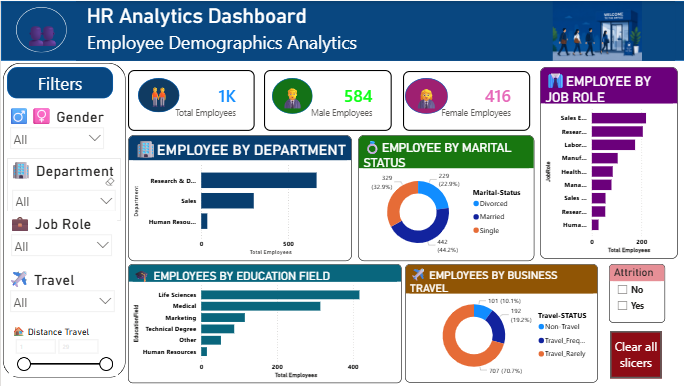

Layout of this report page (visuals, bound fields, positions):
{"tool":"powerbi","page":{"name":"Page 1","canvas":[1280,720],"ordinal":0},"visuals":[{"type":"shape","box":[0,0,1280,111.6],"z":0},{"type":"cardVisual","fields":{"Data":["page1.Total Employees"]},"box":[238.5,128.8,237.1,114.1],"z":1000},{"type":"textbox","title":"HR Analytics Dashboard","box":[139.5,0,1120.8,111.6],"z":2000},{"type":"donutChart","title":"💍EMPLOYEE BY MARITAL STATUS","fields":{"Series":["page1.MaritalStatus"],"Y":["page1.Total Employees"]},"box":[667.9,251.1,329.8,236.3],"z":3000},{"type":"clusteredBarChart","title":"🏢EMPLOYEE BY DEPARTMENT","fields":{"Y":["page1.Total Employees"],"Category":["page1.Department"]},"box":[238.5,250.2,418.5,235.6],"z":4000},{"type":"barChart","title":"👔EMPLOYEE BY JOB ROLE","fields":{"Category":["page1.JobRole"],"Y":["page1.Total Employees"]},"box":[1008.3,124.4,257.6,358.5],"z":5000},{"type":"clusteredBarChart","title":"🎓 EMPLOYEES BY EDUCATION FIELD","fields":{"Category":["page1.EducationField"],"Y":["page1.Total Employees"]},"box":[237.9,492.3,512,223.2],"z":6000},{"type":"donutChart","title":"✈️ EMPLOYEES BY BUSINESS TRAVEL","fields":{"Series":["page1.BusinessTravel"],"Y":["page1.Total Employees"]},"box":[756.5,492.3,361,221.5],"z":7000},{"type":"shape","box":[3.3,116.5,229.7,589.1],"z":8000},{"type":"slicer","title":"♂️♀️ Gender","fields":{"Values":["page2.OverTime"]},"box":[8.2,192,195.3,109.9],"z":9000},{"type":"shape","box":[27.9,11.5,95.2,85.3],"z":10000},{"type":"image","box":[953.4,0,326.6,111.6],"z":11000},{"type":"shape","box":[11.5,123.1,198.6,59.1],"z":12000},{"type":"slicer","title":"🏢 Department","fields":{"Values":["page1.Department"]},"box":[11.5,293.7,213.3,118.2],"z":13000},{"type":"slicer","title":"💼 Job Role","fields":{"Values":["page1.JobRole"]},"box":[9.8,392.2,208.4,118.2],"z":14000},{"type":"slicer","title":"✈️ Travel","fields":{"Values":["page1.BusinessTravel"]},"box":[8.2,497.2,215,113.2],"z":15000},{"type":"slicer","title":"🏠 Distance Travel","fields":{"Values":["page1.DistanceFromHome"]},"box":[14.8,603.9,203.5,96.8],"z":16000},{"type":"shape","box":[256.1,144.9,77.6,64.4],"z":17000},{"type":"cardVisual","fields":{"Data":["page1.Male Employees"]},"box":[491.7,128.8,238.5,114.1],"z":18000},{"type":"shape","box":[507.8,144.9,76.1,67.3],"z":19000},{"type":"cardVisual","fields":{"Data":["page1.Female Employees"]},"box":[751.6,131.3,237.9,111.6],"z":20000},{"type":"shape","box":[756.5,144.4,80.4,67.3],"z":21000},{"type":"actionButton","box":[1140.5,617,96.8,88.6],"z":22000},{"type":"slicer","title":"Attrition","fields":{"Values":["page1.Attrition"]},"box":[1137.2,492.3,105,109.9],"z":22001}]}

Visuals, with their boxes in screenshot pixels (x1, y1, x2, y2), scaled from the page's 1280x720 canvas onto the 684x386 screenshot:
shape: bbox(0, 0, 683, 60)
cardVisual - page1.Total Employees: bbox(127, 69, 254, 130)
"HR Analytics Dashboard" textbox: bbox(75, 0, 673, 60)
"💍EMPLOYEE BY MARITAL STATUS" donutChart: bbox(357, 135, 533, 261)
"🏢EMPLOYEE BY DEPARTMENT" clusteredBarChart: bbox(127, 134, 351, 260)
"👔EMPLOYEE BY JOB ROLE" barChart: bbox(539, 67, 676, 259)
"🎓 EMPLOYEES BY EDUCATION FIELD" clusteredBarChart: bbox(127, 264, 401, 384)
"✈️ EMPLOYEES BY BUSINESS TRAVEL" donutChart: bbox(404, 264, 597, 383)
shape: bbox(2, 62, 125, 378)
"♂️♀️ Gender" slicer: bbox(4, 103, 109, 162)
shape: bbox(15, 6, 66, 52)
image: bbox(509, 0, 683, 60)
shape: bbox(6, 66, 112, 98)
"🏢 Department" slicer: bbox(6, 157, 120, 221)
"💼 Job Role" slicer: bbox(5, 210, 117, 274)
"✈️ Travel" slicer: bbox(4, 267, 119, 327)
"🏠 Distance Travel" slicer: bbox(8, 324, 117, 376)
shape: bbox(137, 78, 178, 112)
cardVisual - page1.Male Employees: bbox(263, 69, 390, 130)
shape: bbox(271, 78, 312, 114)
cardVisual - page1.Female Employees: bbox(402, 70, 529, 130)
shape: bbox(404, 77, 447, 113)
actionButton: bbox(609, 331, 661, 378)
"Attrition" slicer: bbox(608, 264, 664, 323)
